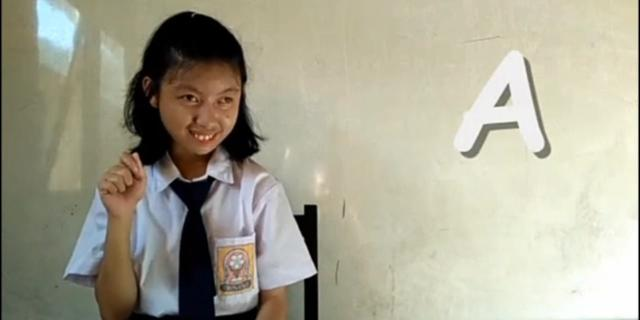A: (94, 149, 152, 225)
